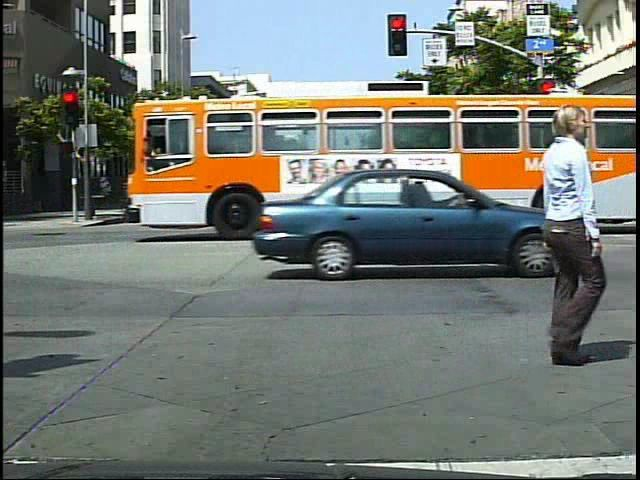person: (503, 93, 612, 396), (305, 165, 337, 229), (318, 166, 348, 230), (212, 167, 241, 233), (549, 160, 572, 211)
